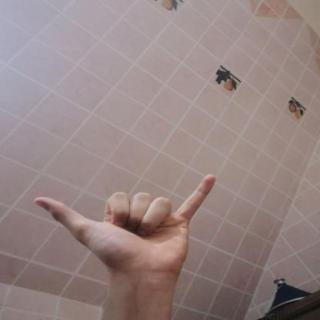YA: (19, 164, 233, 288)
